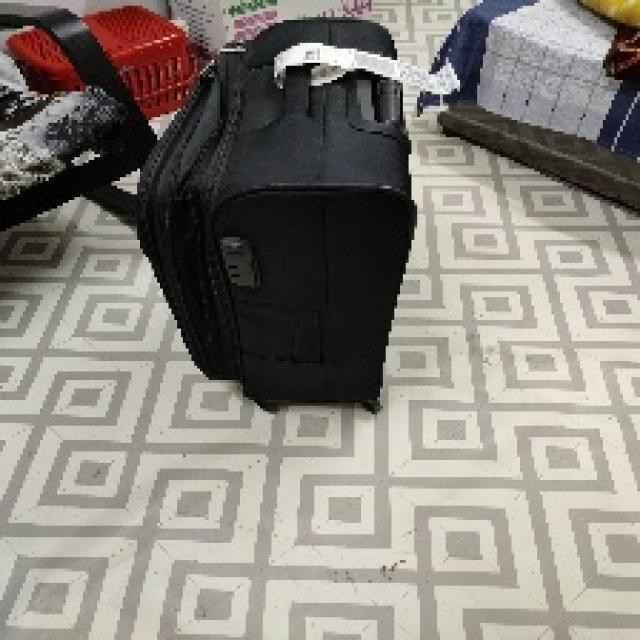Suitcase: (128, 12, 426, 414)
